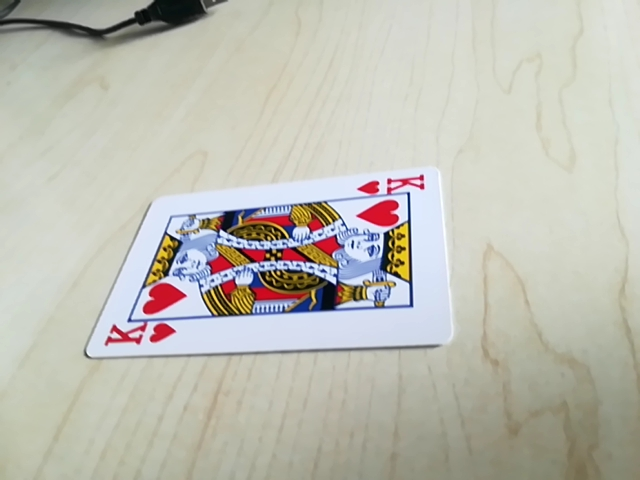hx k: (103, 318, 180, 354), (356, 172, 430, 199)
